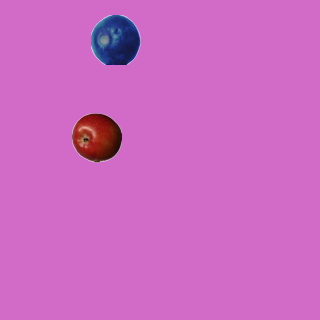Apple Braeburn: (71, 112, 121, 162)
Huckleberry: (90, 14, 140, 64)
